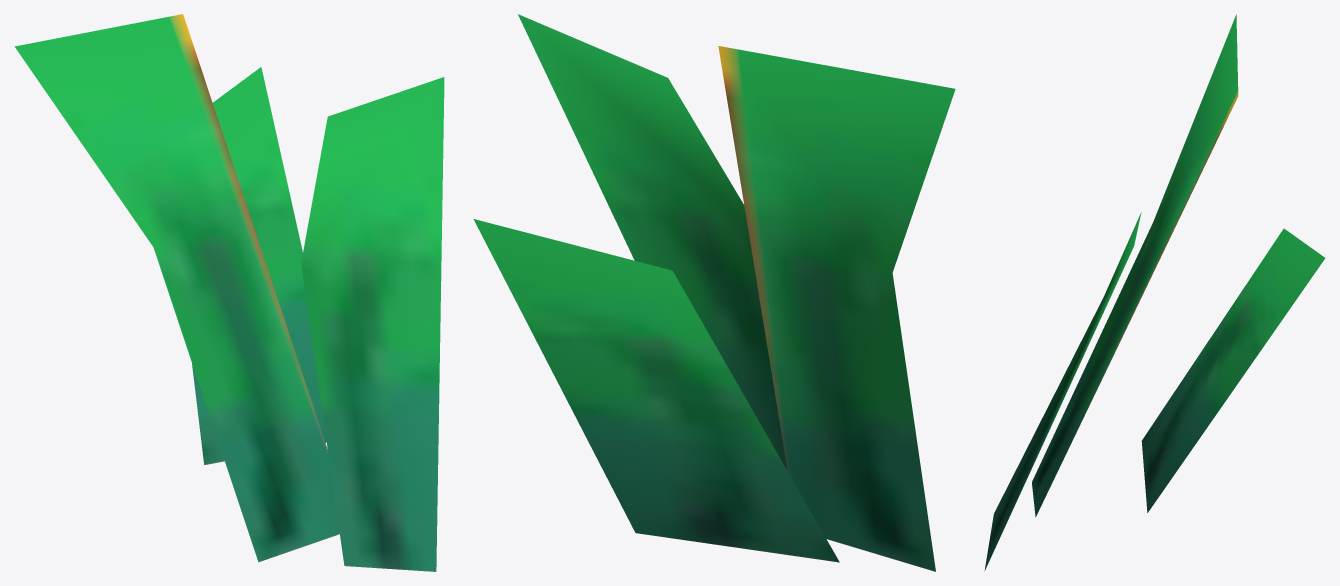
File: fg_grassD.dae
The picture shows the model from 3 angles, left to right: view 1: azimuth 30°, elevation 25°; view 2: azimuth 150°, elevation 25°; view 3: azimuth 270°, elevation 25°; orthographic projection. The views are drawn at different scales.
Parts seen in each view (by area): view 1: fg_grassD; view 2: fg_grassD; view 3: fg_grassD.
Part boxes in pixels (x1,y1,x2,y2): fg_grassD: (14,14,444,571); fg_grassD: (473,14,955,571); fg_grassD: (984,14,1325,570).
Bounding box in the file's own units: 14.73 × 18.52 × 13.13.
Materials: 1 (1 with a texture image).
